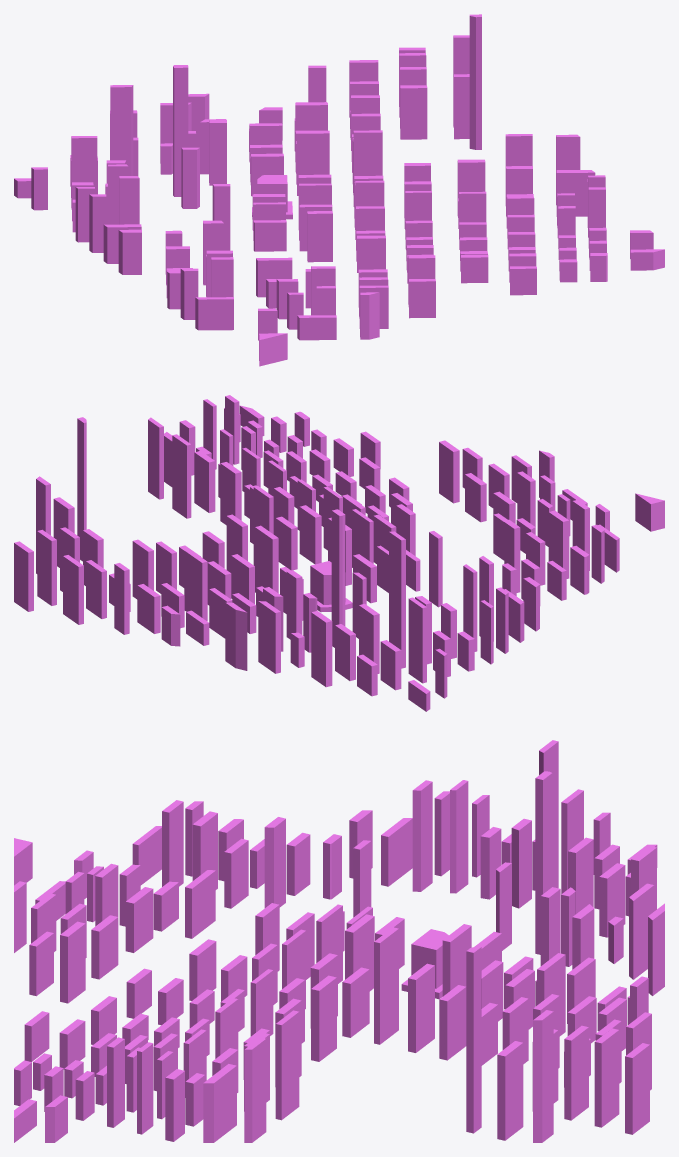
Rendered from buildings_00142.obj.
3 renders of one model, top to bottom at view 1: azimuth 30°, elevation 25°; view 2: azimuth 150°, elevation 25°; view 3: azimuth 270°, elevation 25°, orthographic. The views are drawn at different scales.
Bounding box in the file's own units: 1460 × 447 × 1460.
